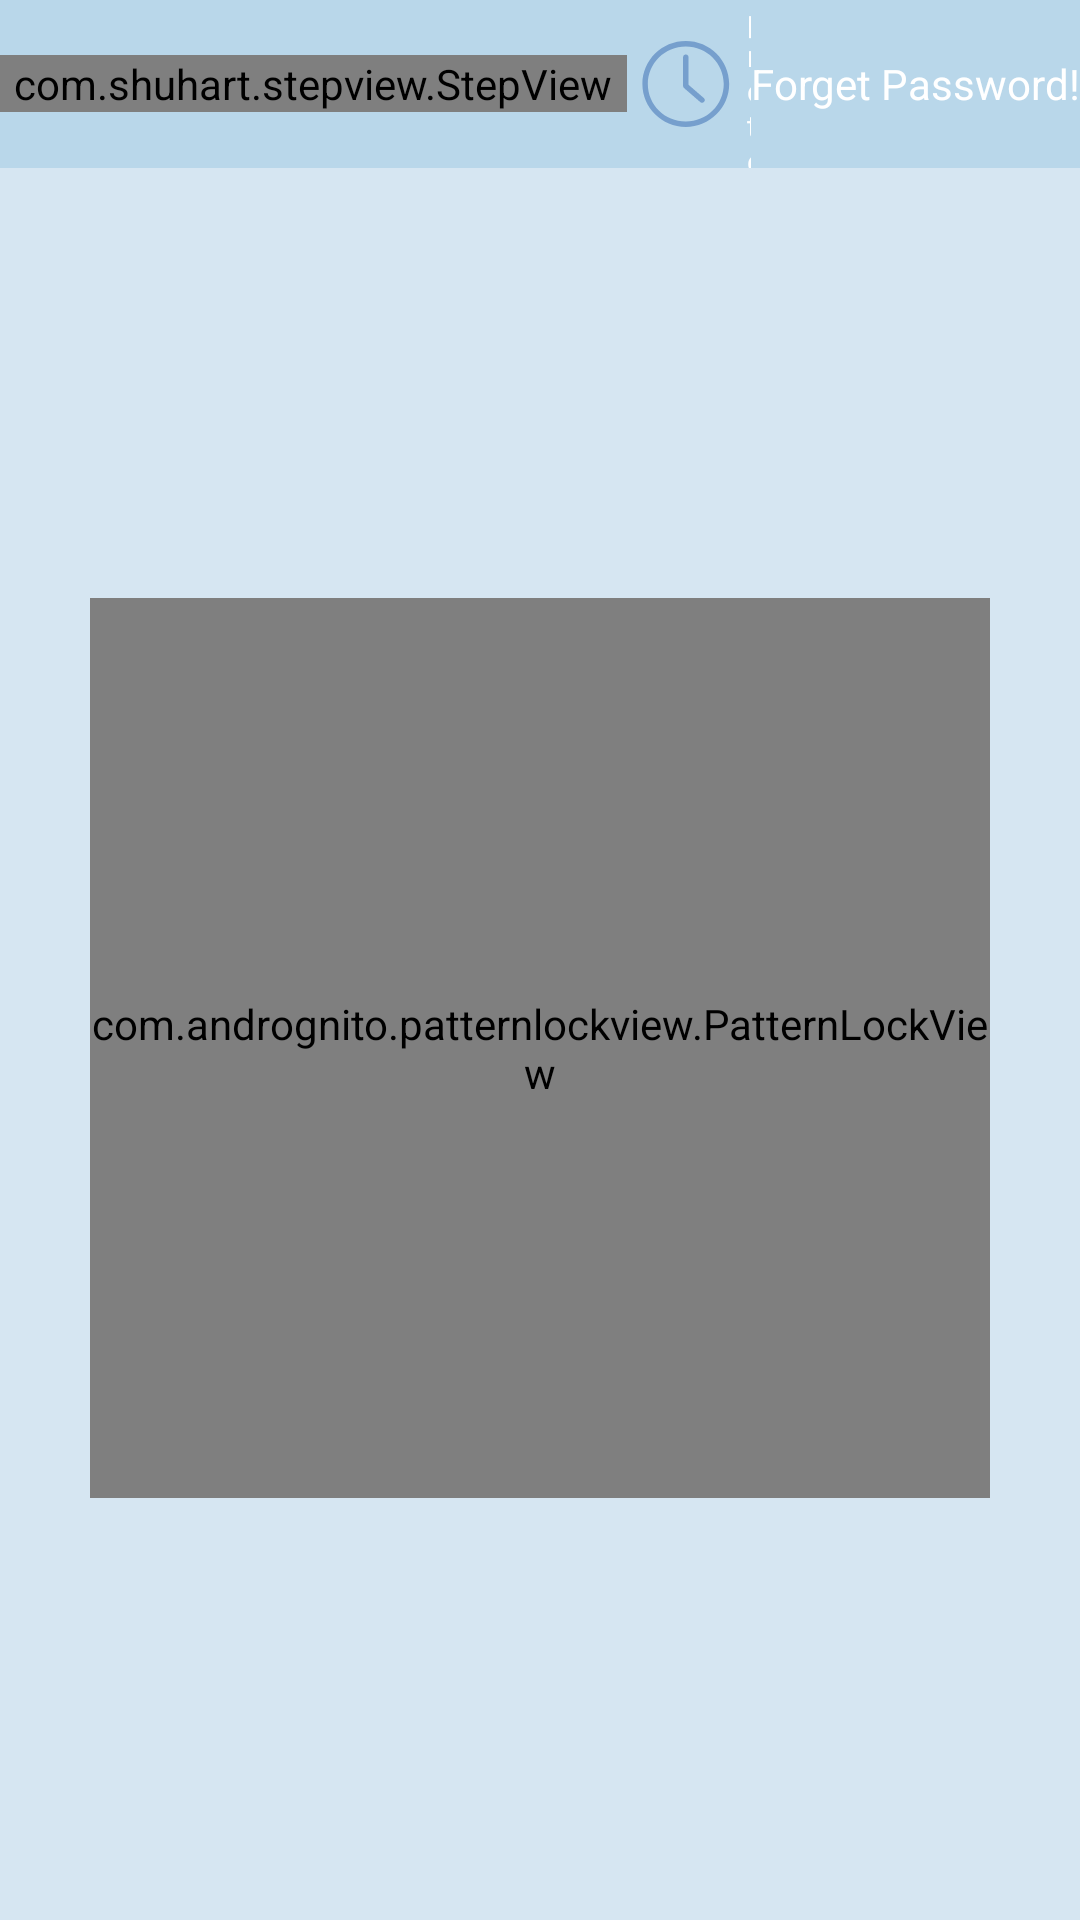

Icons on this 1080px×1920px Android screen, each with the point to tap as (x,y):
history: (685,84)
